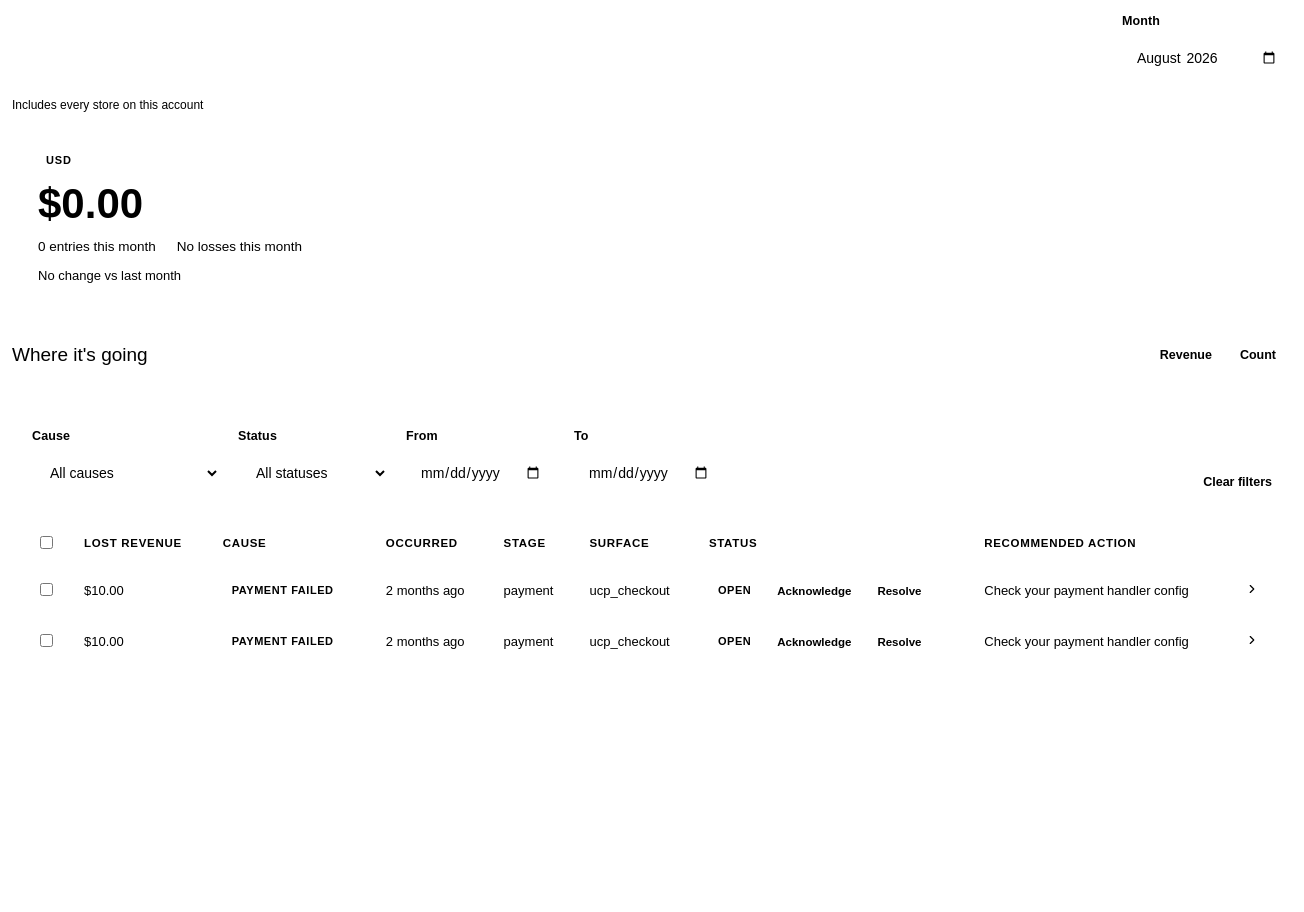
Test case: LostRevenuePanel — status actions (R14/R15/A4) › bulk status change reports partial failure (N succeeded, M failed)
Click the checkbox named "Select entry a": (46, 589) [40, 583, 53, 596]
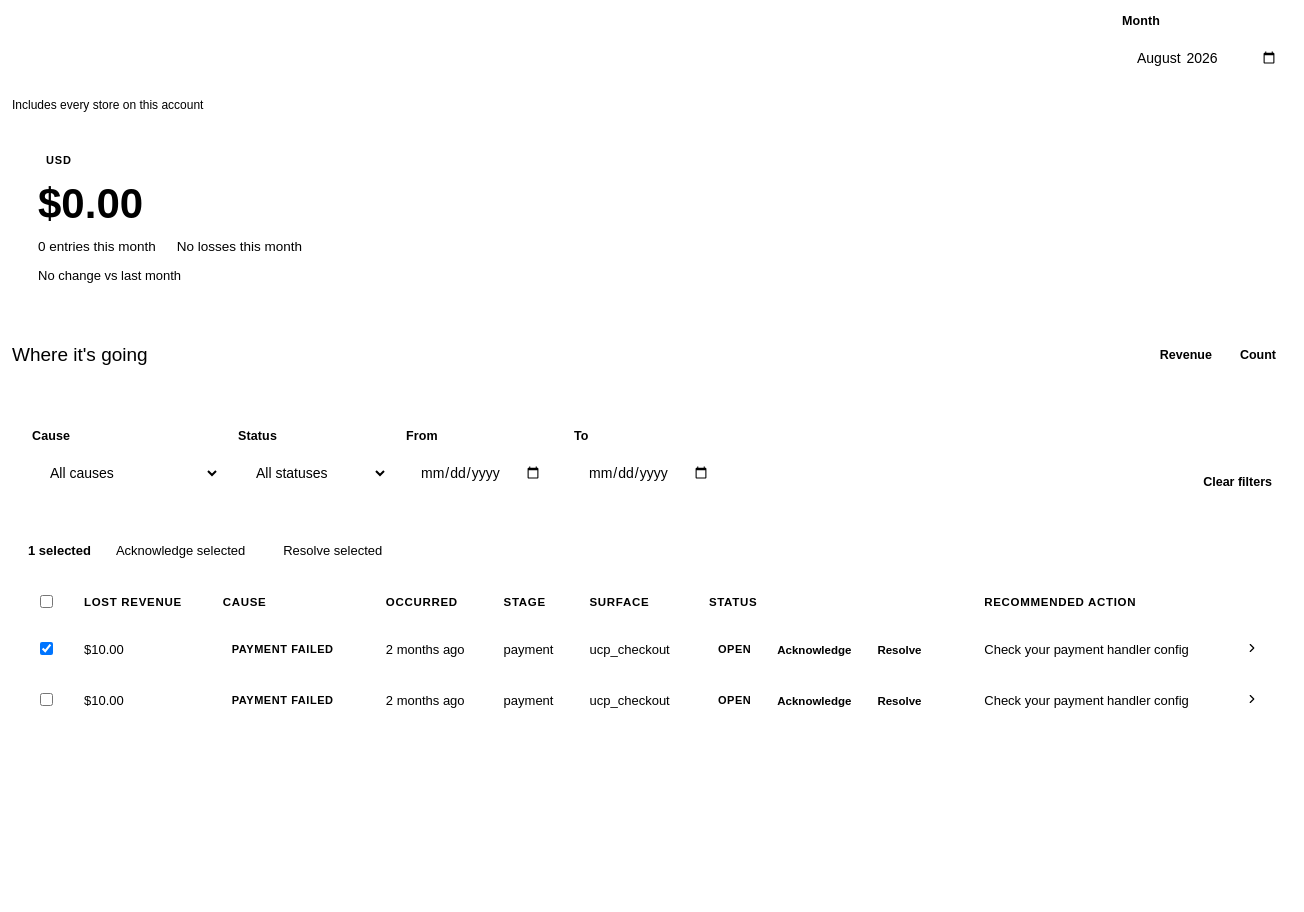
Click the checkbox named "Select entry b": (46, 699) [40, 693, 53, 706]
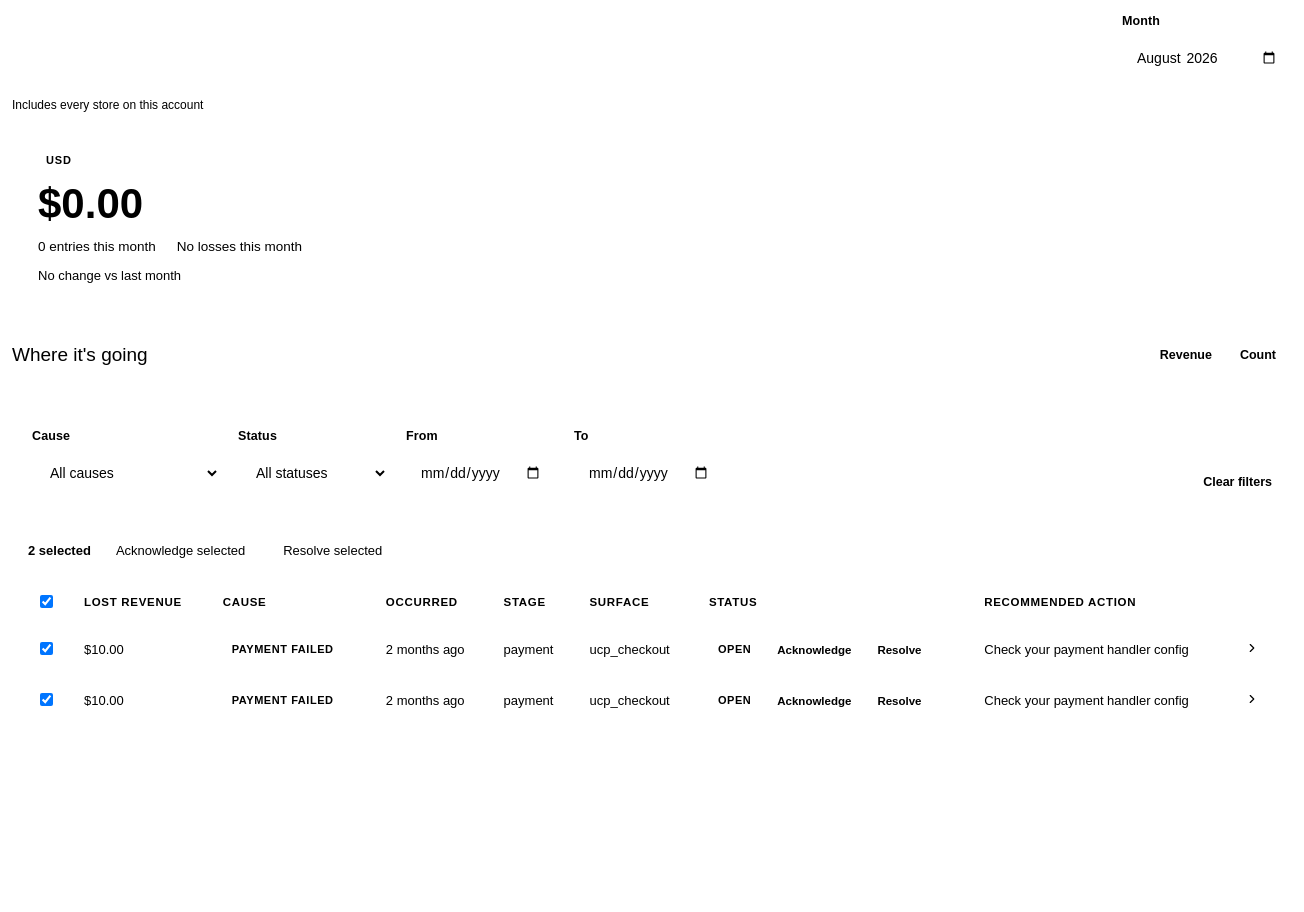
Click the button with class "bulk-btn" showing "Acknowledge selected": (181, 550) [103, 537, 258, 564]
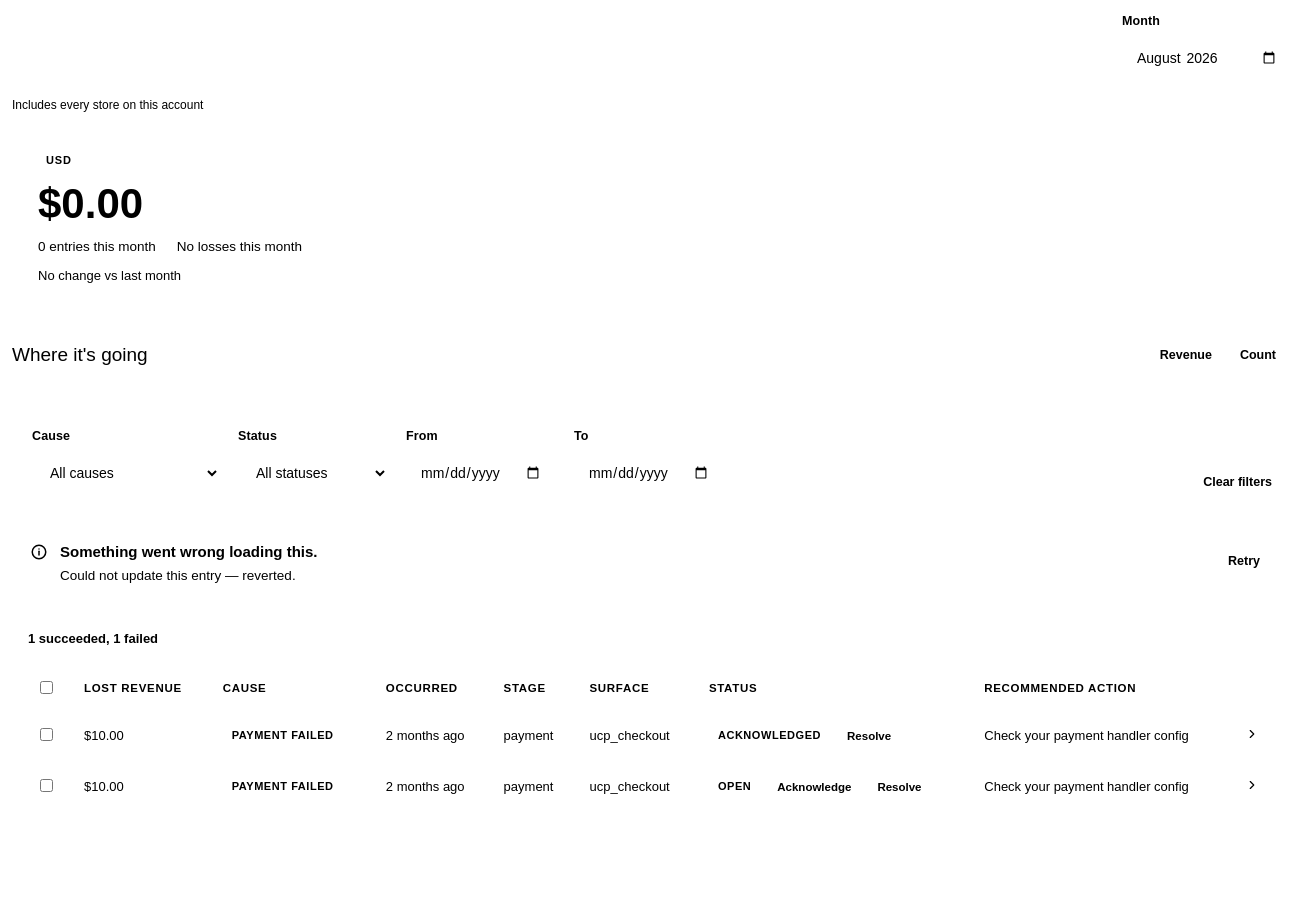
Expected: the text "1 succeeded, 1 failed" is shown, [28, 631, 158, 646]
